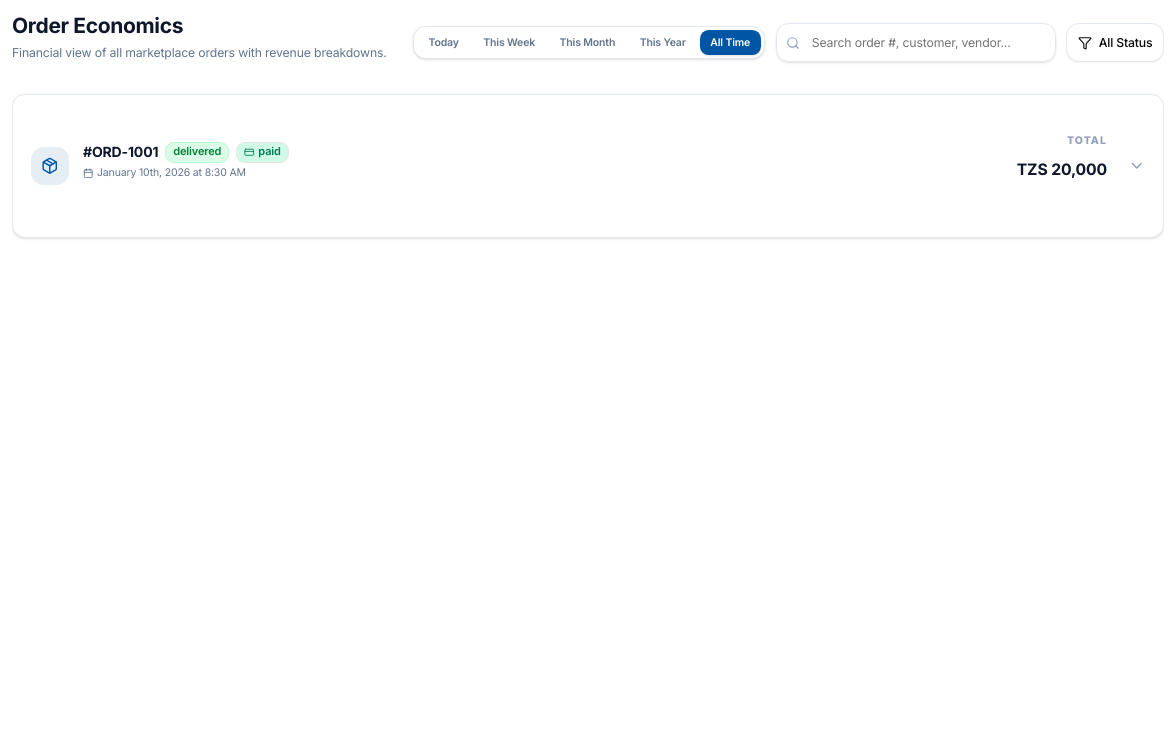
Test: FinanceOrdersTab › shows 'None' for escrow when no matching transaction exists
Click the text "#ORD-1001" at (121, 152), box [83,142,158,162]
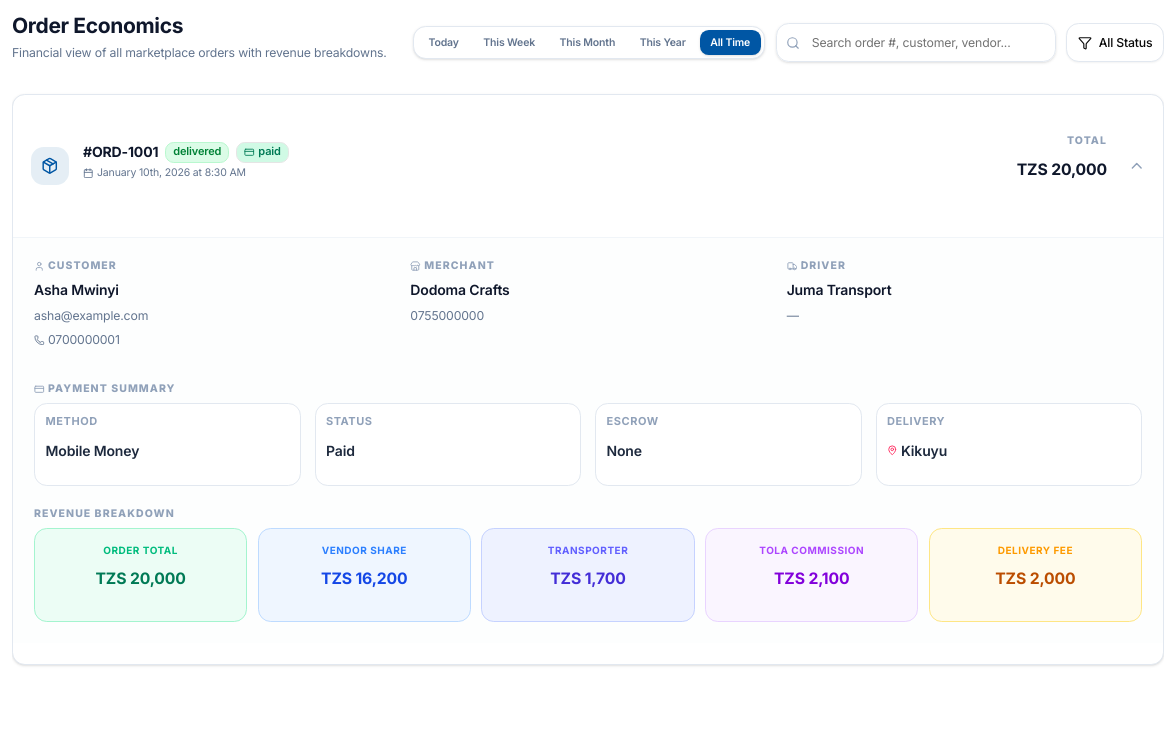
Expected: the text "None" is shown, [606,442,642,459]
